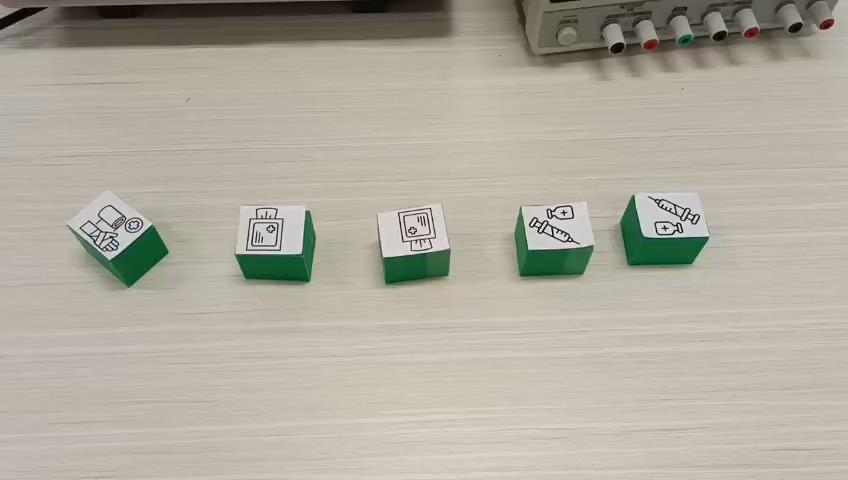Bandages: (64, 188, 168, 287)
Gauze: (233, 205, 316, 283), (376, 202, 451, 283)
antiseptic cream: (619, 190, 710, 265), (512, 200, 594, 275)
